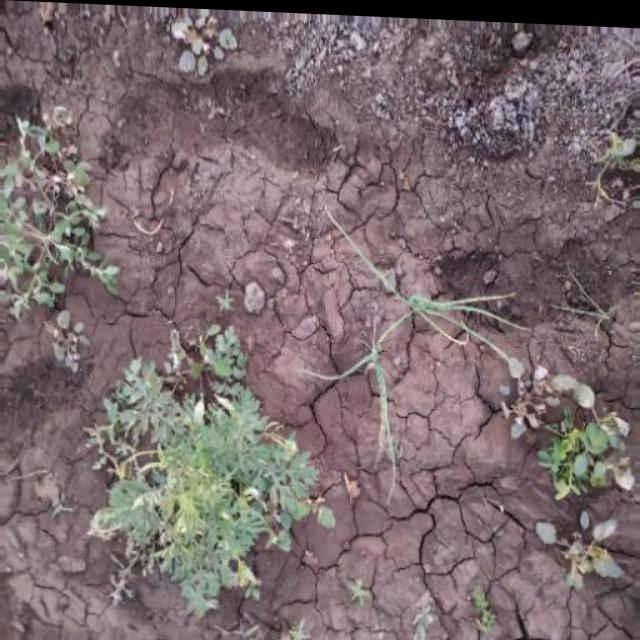weed: (68, 332, 326, 624), (486, 348, 640, 601), (2, 105, 96, 319)
